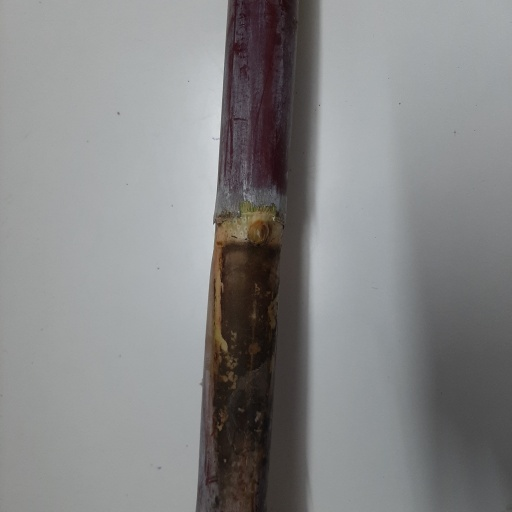Bud: (246, 218, 270, 246)
